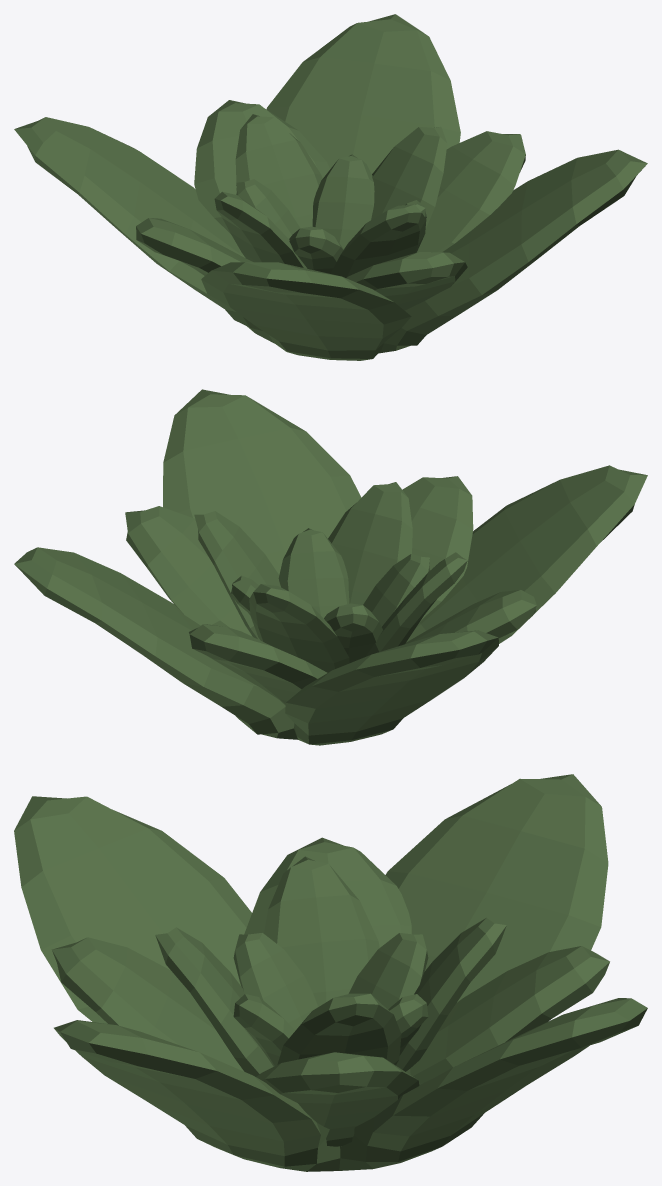
File: cactusflower_1.glb
3 renders of one model, top to bottom at view 1: azimuth 30°, elevation 25°; view 2: azimuth 150°, elevation 25°; view 3: azimuth 270°, elevation 25°, orthographic. The views are drawn at different scales.
Parts seen in each view (by area): view 1: CactusFlower_1; view 2: CactusFlower_1; view 3: CactusFlower_1.
Boxes of the visible parts, x1,y1,x2,y2 form: CactusFlower_1: (14, 14, 647, 360); CactusFlower_1: (14, 389, 647, 745); CactusFlower_1: (14, 774, 647, 1171).
Size of the model in its own units: 2.12 by 0.8671 by 2.08.
